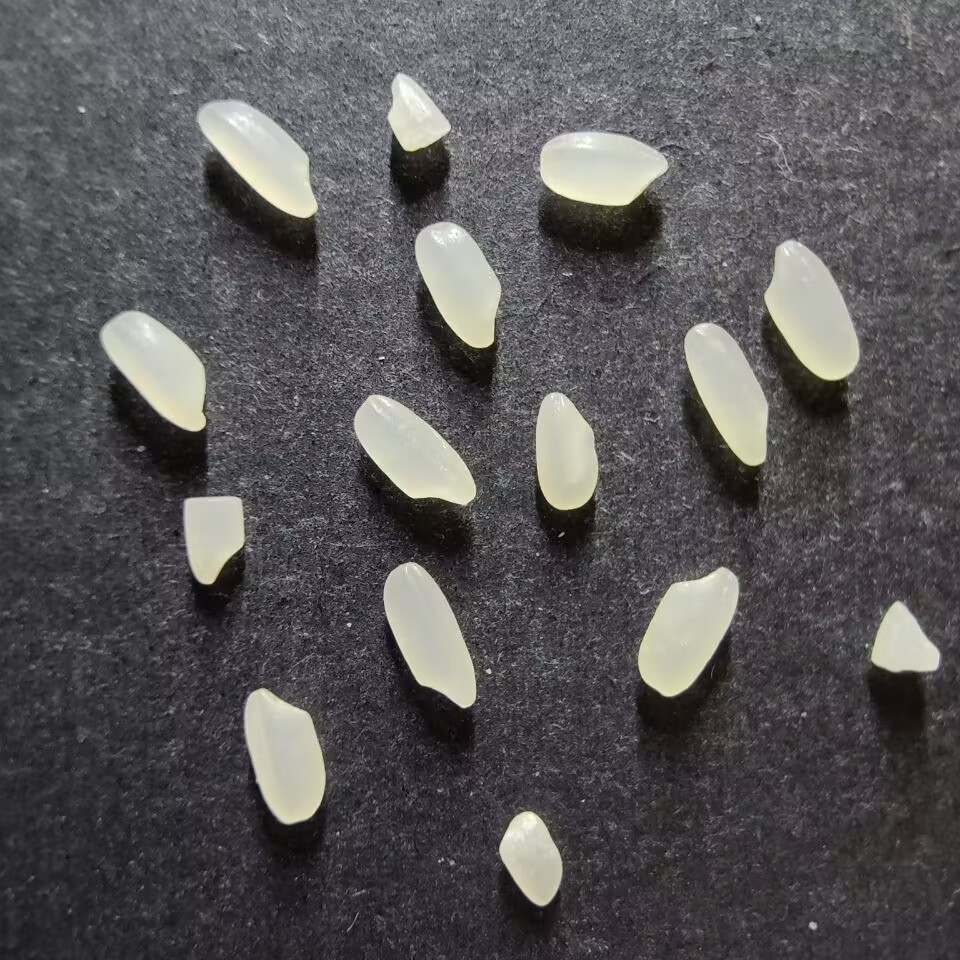broken: (499, 810, 562, 907), (183, 495, 244, 584), (869, 599, 940, 673), (386, 72, 451, 152)
rice: (198, 100, 318, 218), (382, 562, 476, 709), (353, 394, 476, 506), (763, 240, 859, 381), (637, 566, 739, 697), (100, 310, 205, 432), (683, 322, 768, 466), (243, 688, 325, 824), (414, 221, 501, 349), (539, 131, 668, 206), (534, 392, 598, 509)
